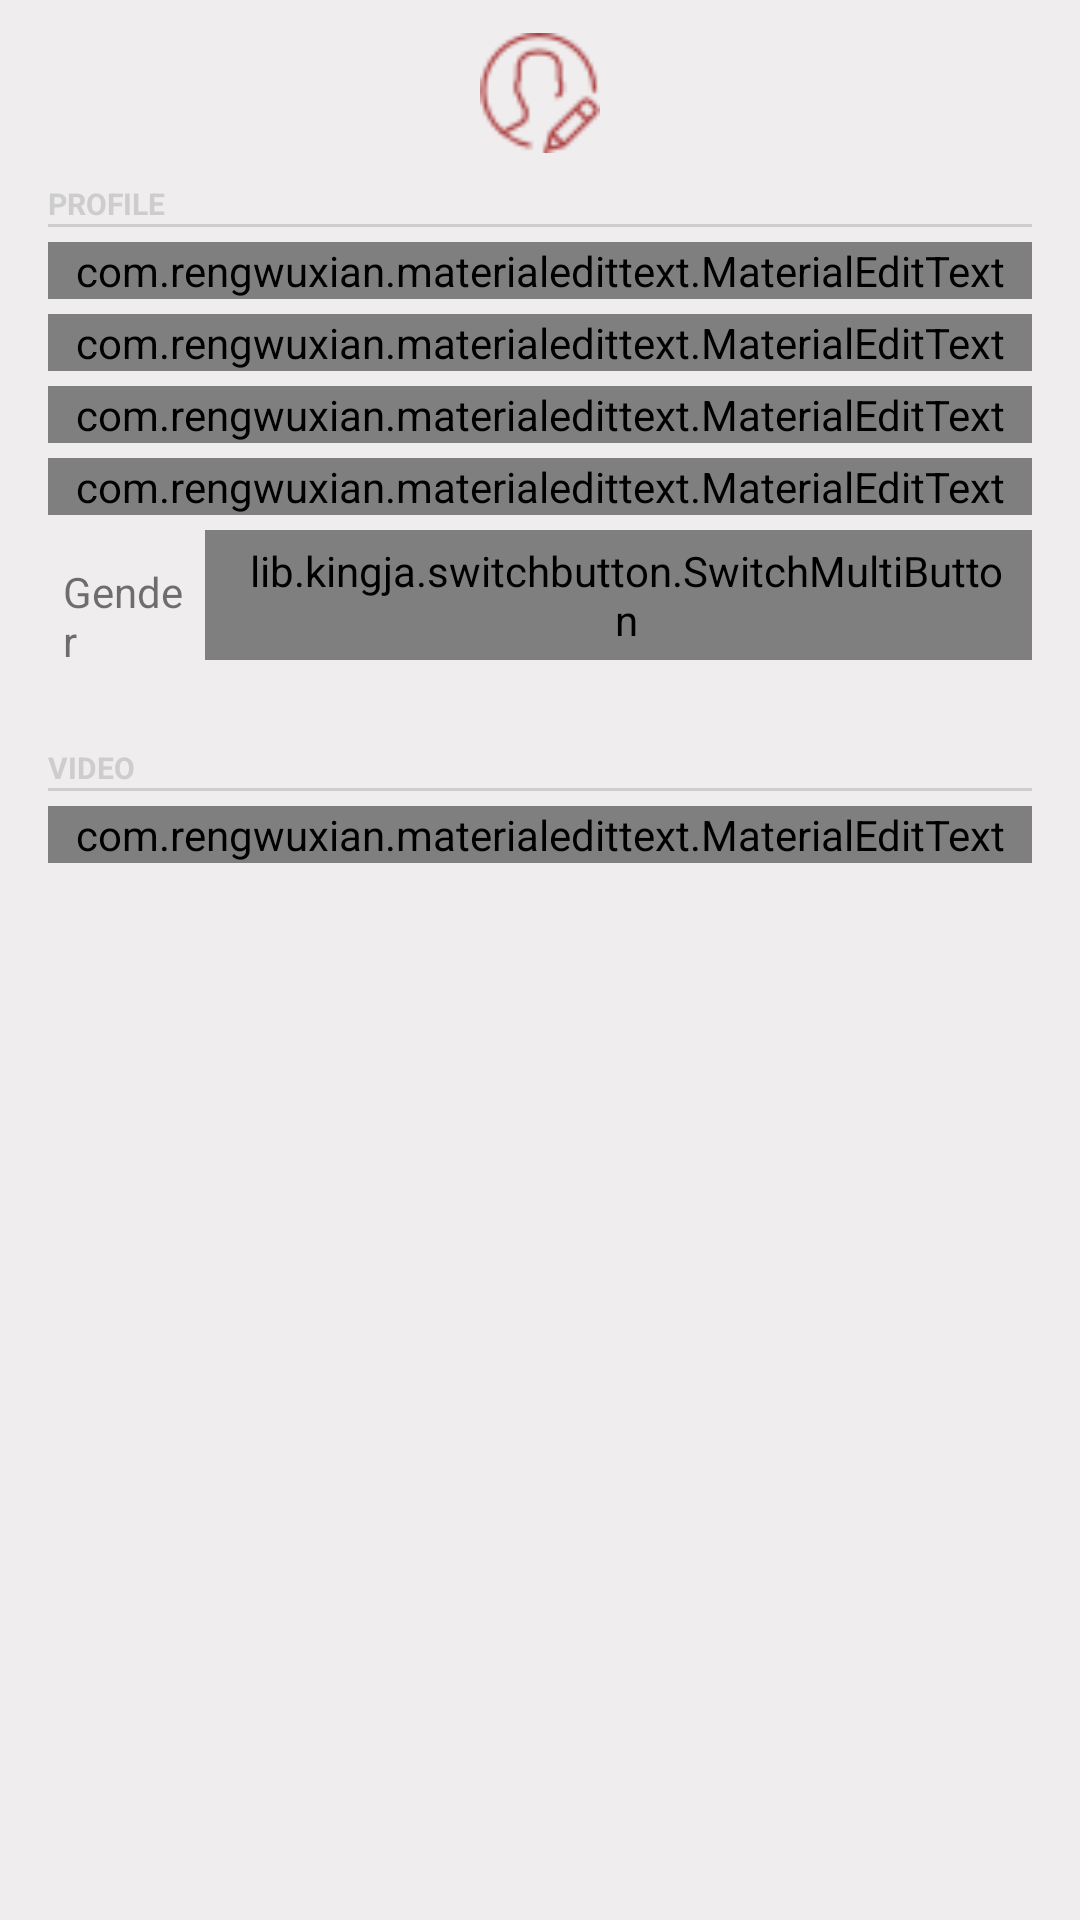

Point at icon controls on the screen. Image size 1080w x 1920h, points as [x,y].
user: [540,93]
